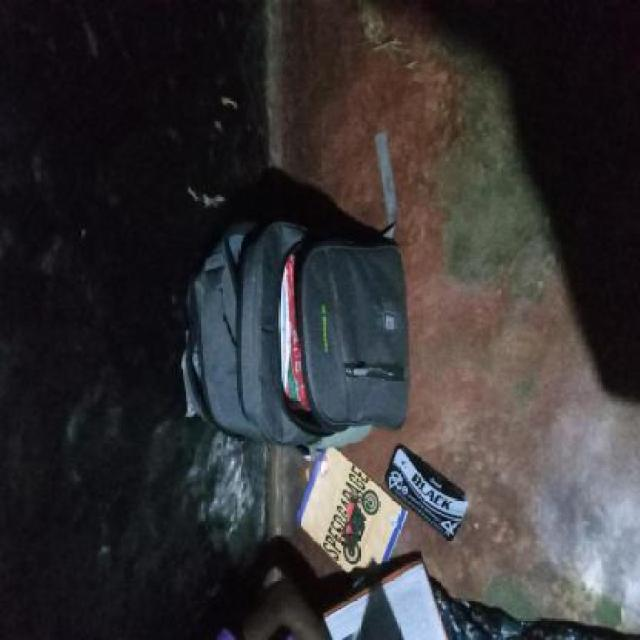backpack: (172, 211, 416, 454)
